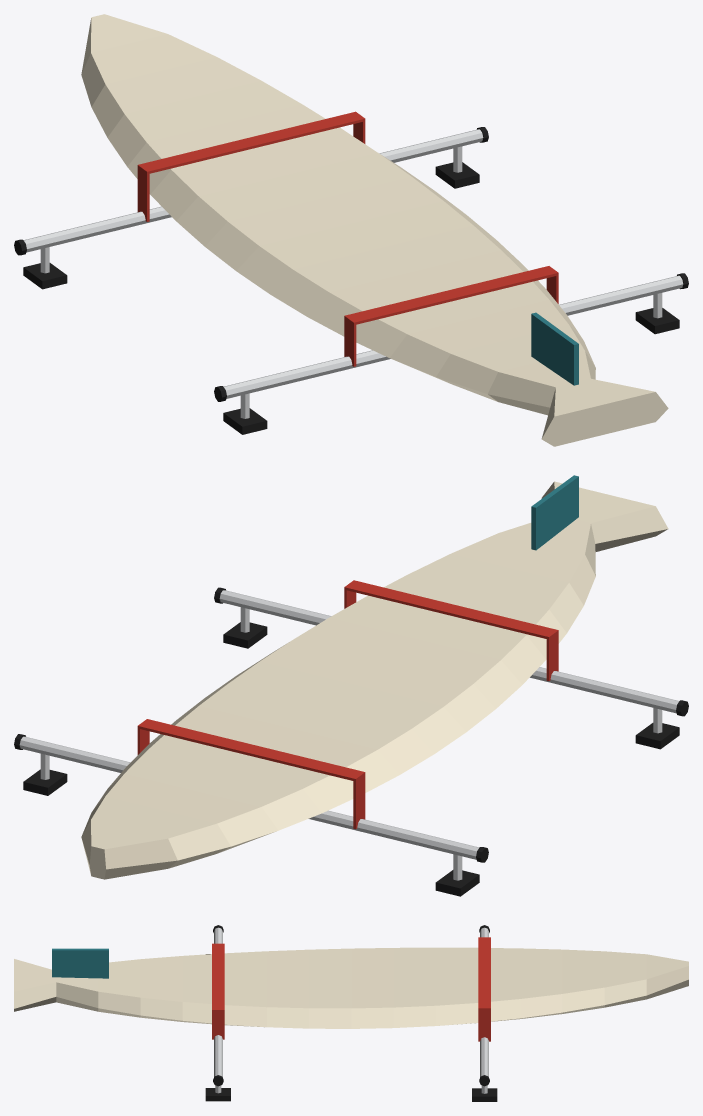
Rendered from roofrack_surf_modern.glb.
3 views of the same model, one above another, from view 1: azimuth 30°, elevation 25°; view 2: azimuth 150°, elevation 25°; view 3: azimuth 270°, elevation 25° (orthographic). The views are drawn at different scales.
Visible parts, largest first — view 1: Surfboard, RoofRack; view 2: Surfboard, RoofRack; view 3: Surfboard, RoofRack.
Boxes of the visible parts, x1=… form: Surfboard: x1=81, y1=14, x2=668, y2=446; RoofRack: x1=14, y1=127, x2=688, y2=434; Surfboard: x1=81, y1=475, x2=668, y2=879; RoofRack: x1=14, y1=587, x2=688, y2=896; Surfboard: x1=14, y1=937, x2=688, y2=1041; RoofRack: x1=205, y1=925, x2=497, y2=1101.
Bounding box in the file's own units: 1.13 × 0.284 × 2.13.
